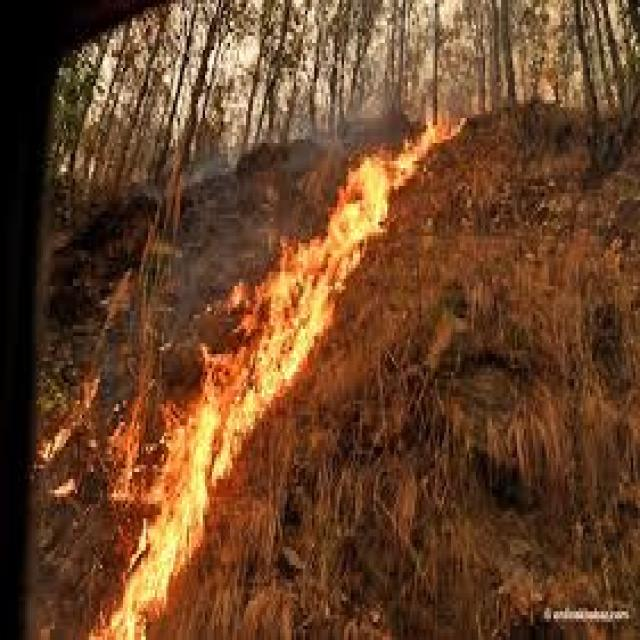fire: (155, 346, 275, 498), (90, 492, 206, 640), (230, 238, 336, 378), (309, 154, 387, 278), (36, 372, 100, 465), (389, 114, 467, 186), (105, 393, 142, 502)
